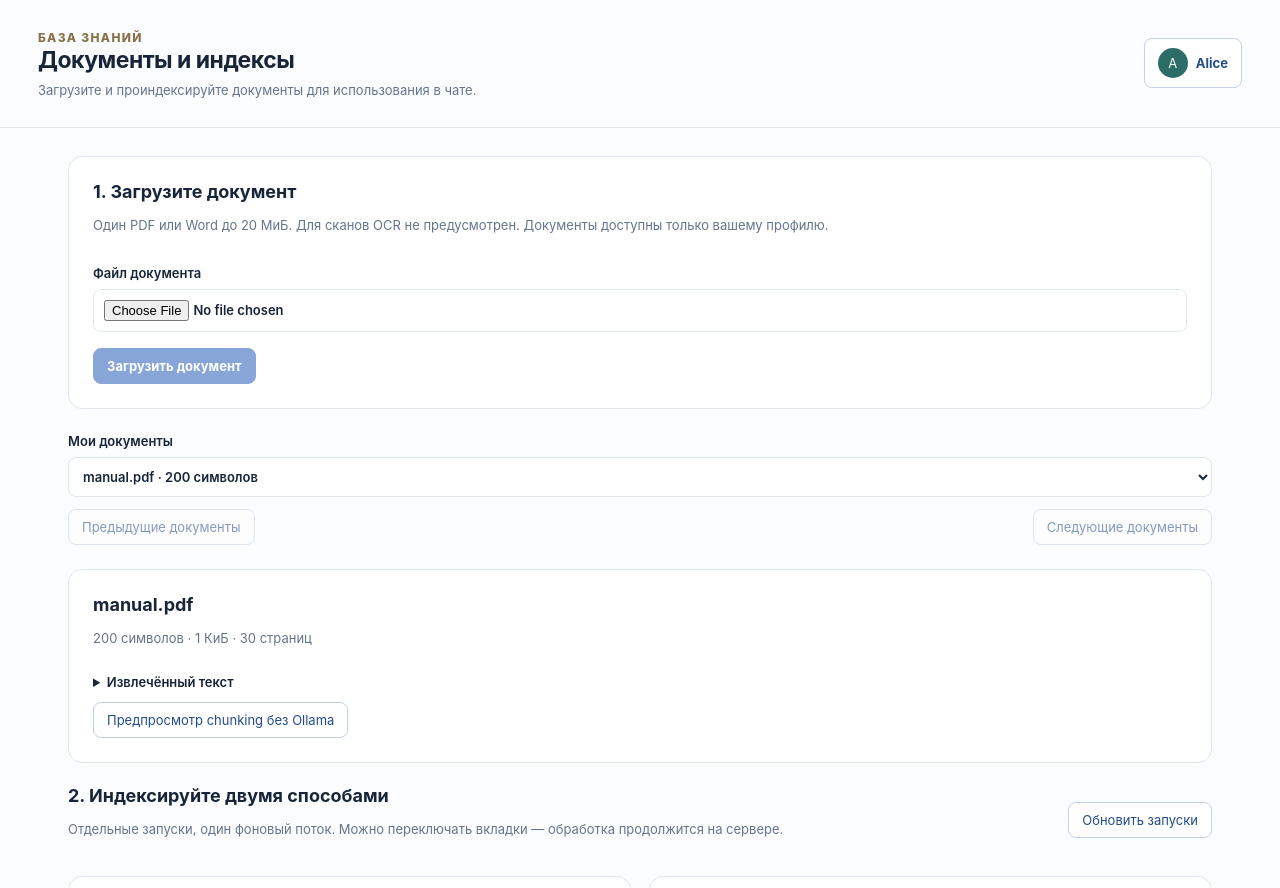
it: RAG documents › previews both strategies without generating embeddings
Click the button "Предпросмотр chunking без Ollama".
click(221, 720)  # box left=93, top=702, right=348, bottom=738
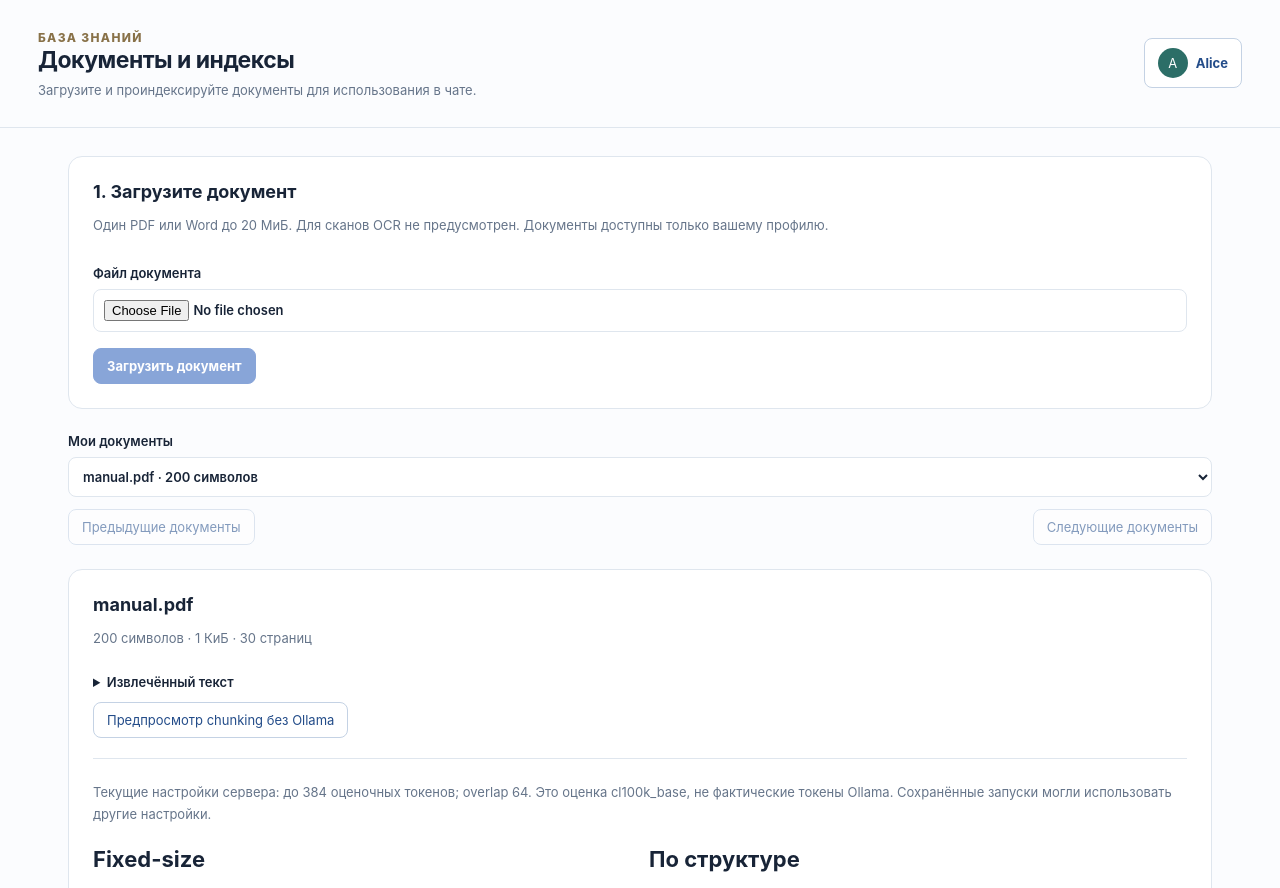
Result: the text "Текущие настройки сервера" shows "384" at left=302, top=784, right=327, bottom=800
